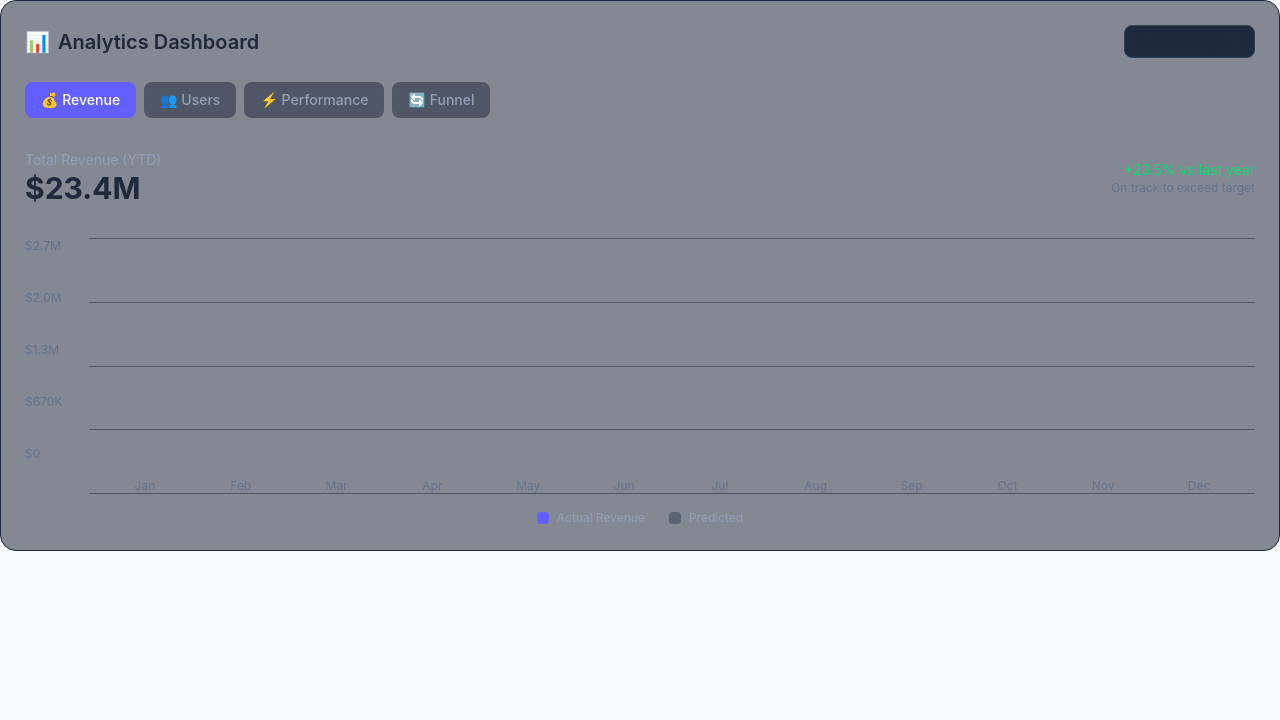
Test case: InteractiveCharts Component › Performance Chart › should switch to performance chart when tab is clicked
This screenshot has width=1280, height=720.
Click the button "⚡ Performance": x=314, y=100 [244, 82, 384, 118]
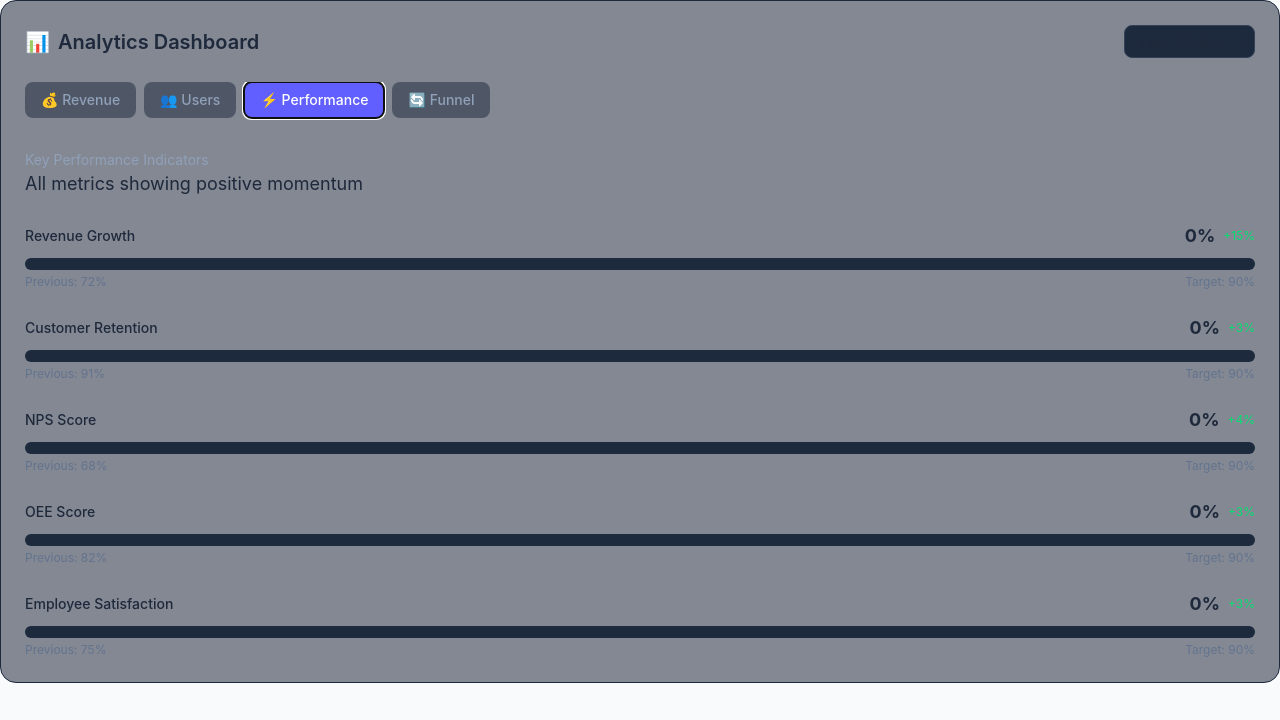
Check: the text "Key Performance Indicators" is shown, box [25, 151, 209, 168]
